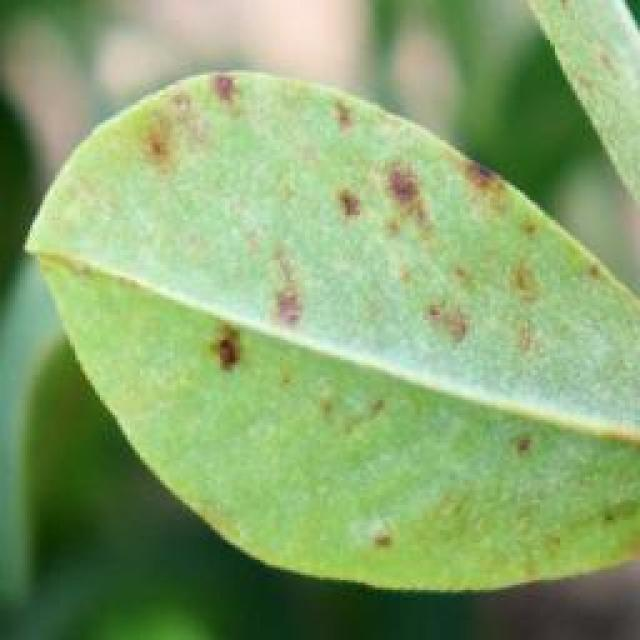Whitefly: (49, 61, 640, 611)
